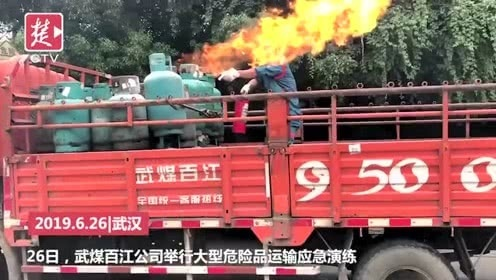fire: (193, 0, 394, 74)
